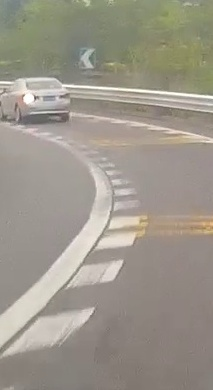L_light: (24, 94, 37, 101)
R_light: (59, 93, 70, 99)
T_light: (41, 80, 49, 82)
day-left: (23, 77, 70, 124)
